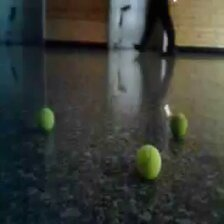tennis: (134, 143, 163, 180), (35, 106, 57, 132), (168, 113, 188, 138)
